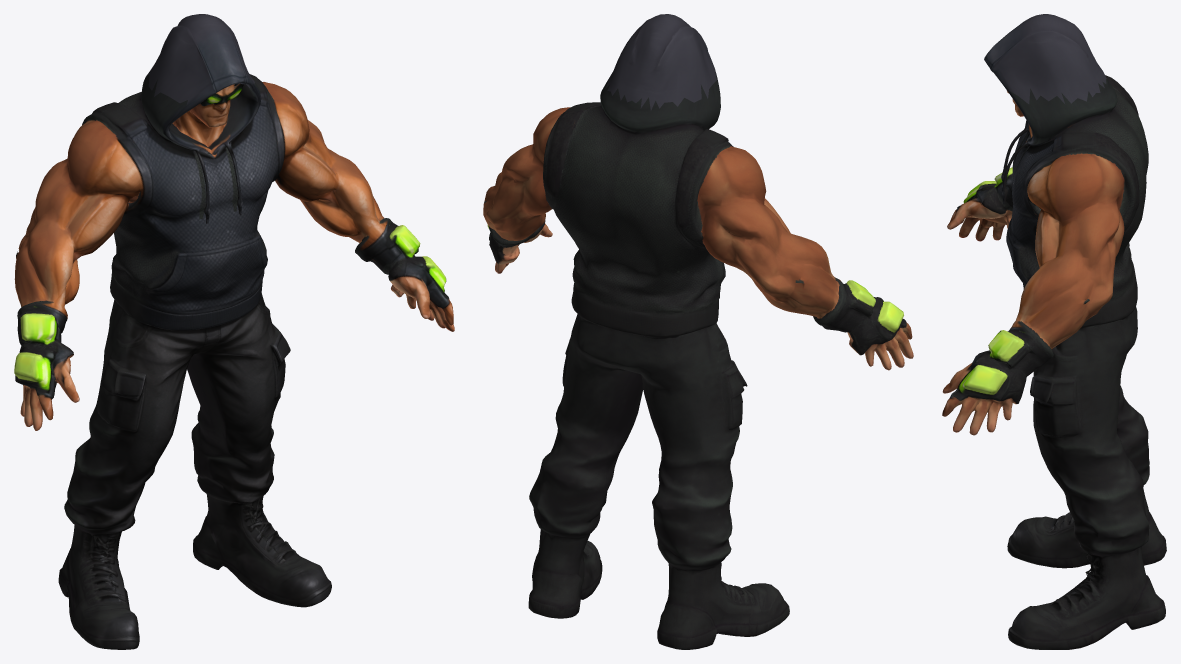
The model's file is dub-razor_body.glb.
3 renders of one model, left to right at view 1: azimuth 30°, elevation 25°; view 2: azimuth 150°, elevation 25°; view 3: azimuth 270°, elevation 25°, orthographic. The views are drawn at different scales.
Visible parts, largest first — view 1: dub-razor; view 2: dub-razor; view 3: dub-razor.
Part boxes in pixels (<box>): dub-razor: <box>14,14,454,649</box>; dub-razor: <box>483,14,913,649</box>; dub-razor: <box>942,14,1166,649</box>.
Size of the model in its own units: 1.36 by 1.85 by 0.6452.
Materials: 2 (2 with a texture image).
